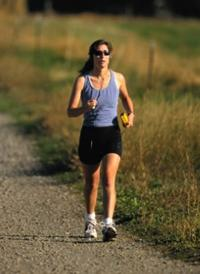person: (67, 38, 136, 242)
